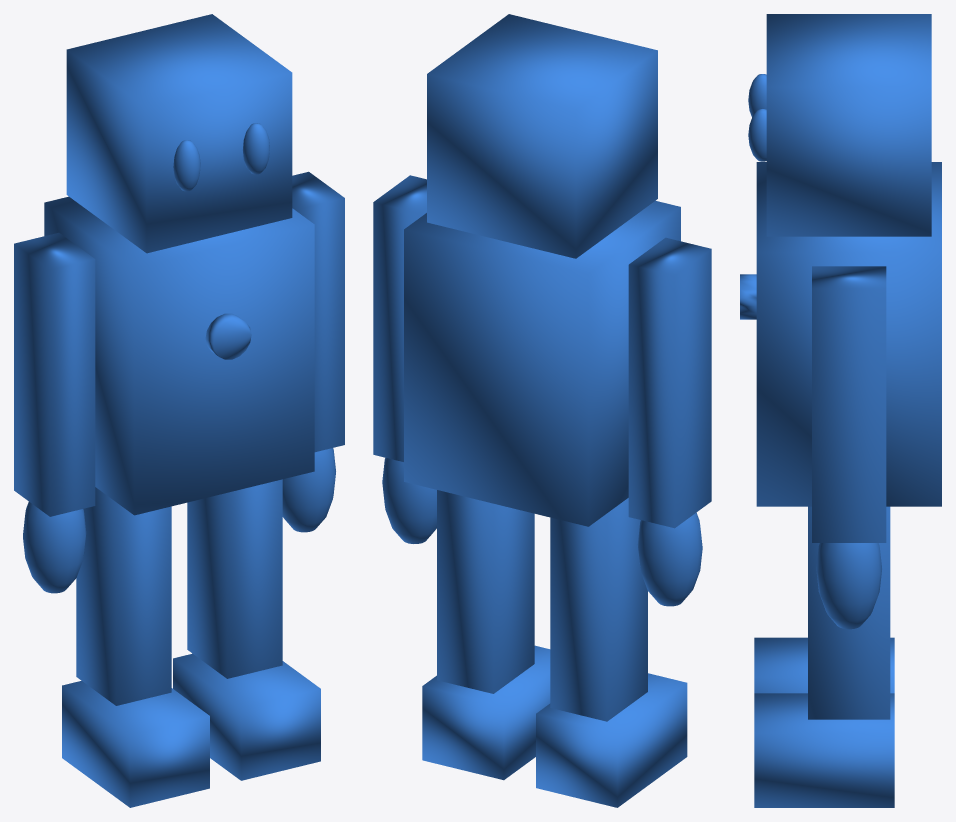
3 views of the same model, side by side, from view 1: azimuth 30°, elevation 25°; view 2: azimuth 150°, elevation 25°; view 3: azimuth 270°, elevation 25° (orthographic). The views are drawn at different scales.
Visible parts, largest first — view 1: torso, head, left_arm, left_leg, right_leg, left_foot, right_foot, right_arm, left_hand, right_hand, chest_button, left_eye (+1 smaller); view 2: torso, head, left_arm, left_leg, right_leg, left_foot, right_foot, right_arm, left_hand, right_hand; view 3: head, torso, right_arm, right_foot, right_leg, right_hand, left_foot, right_eye, chest_button, left_eye.
Part boxes in pixels (x1,y1,x2,y2): torso: (44, 196, 314, 515); head: (66, 14, 292, 253); left_arm: (14, 232, 95, 516); left_leg: (76, 487, 171, 705); right_leg: (187, 479, 282, 678); left_foot: (62, 681, 209, 807); right_foot: (173, 653, 320, 780); right_arm: (292, 171, 344, 452); left_hand: (23, 501, 86, 593); right_hand: (282, 448, 335, 532); chest_button: (205, 313, 251, 359); left_eye: (173, 140, 200, 191); torso: (404, 200, 680, 526); head: (427, 14, 657, 258); left_arm: (628, 237, 711, 528); left_leg: (550, 498, 647, 721); right_leg: (437, 490, 534, 693); left_foot: (536, 673, 687, 807); right_foot: (422, 645, 550, 780); right_arm: (373, 175, 426, 461); left_hand: (637, 512, 702, 606); right_hand: (382, 457, 436, 543); head: (766, 14, 931, 236); torso: (756, 162, 941, 506); right_arm: (812, 266, 886, 542); right_foot: (754, 693, 894, 807); right_leg: (808, 506, 890, 719); right_hand: (816, 543, 881, 629); left_foot: (754, 637, 894, 693); right_eye: (748, 108, 766, 161); chest_button: (740, 274, 756, 319); left_eye: (748, 74, 766, 117).
Size of the model in its own units: 0.88 by 1.9 by 0.49.
